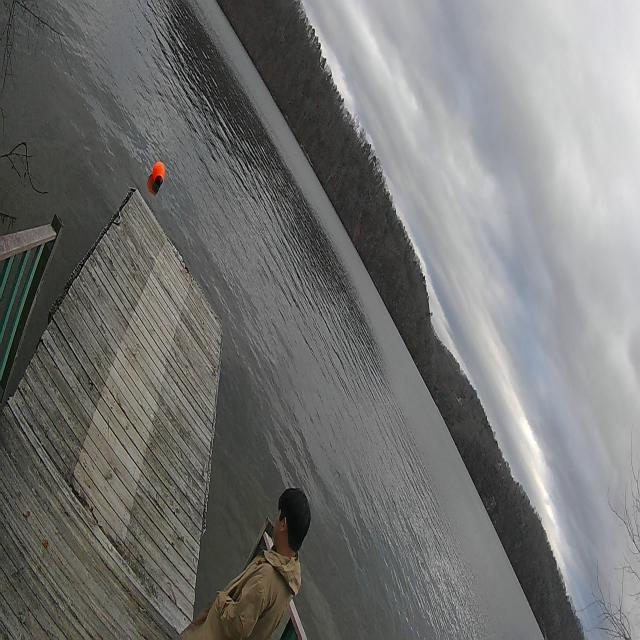Buoy: (150, 158, 167, 193)
